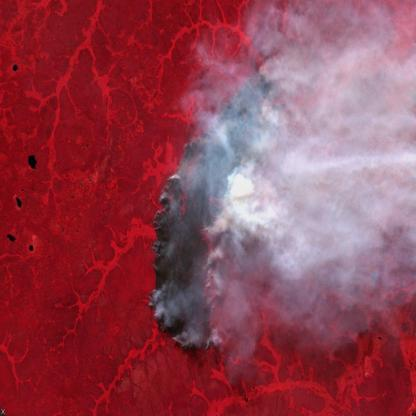fire: (146, 69, 288, 357)
